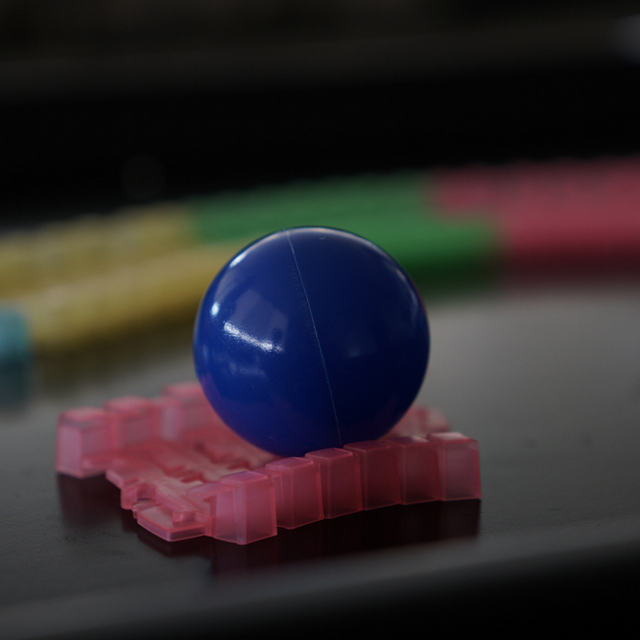Ball: (196, 229, 430, 458)
